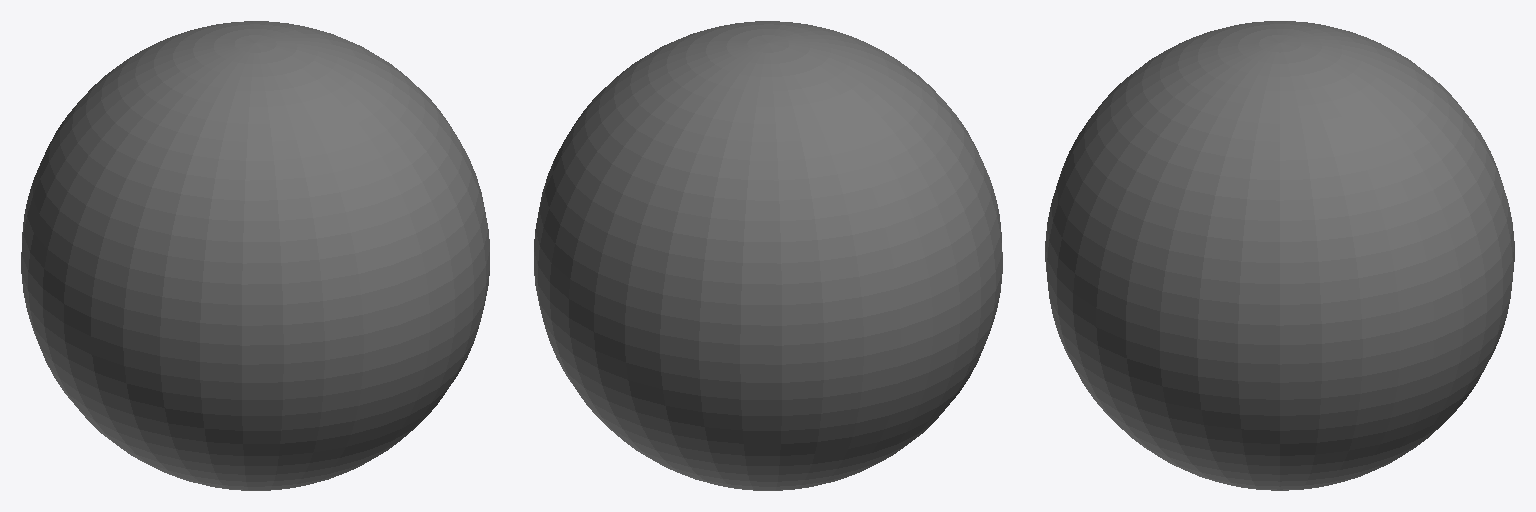
Rendered from planetTest.obj.
3 renders of one model, left to right at view 1: azimuth 30°, elevation 25°; view 2: azimuth 150°, elevation 25°; view 3: azimuth 270°, elevation 25°, orthographic.
Visible parts, largest first — view 1: pSphere1; view 2: pSphere1; view 3: pSphere1.
Boxes of the visible parts, box(x1,y1,x2,y2) form: pSphere1: box(21, 21, 489, 490); pSphere1: box(534, 21, 1002, 490); pSphere1: box(1045, 21, 1514, 490).
Bounding box in the file's own units: 8.75 × 8.78 × 8.76.